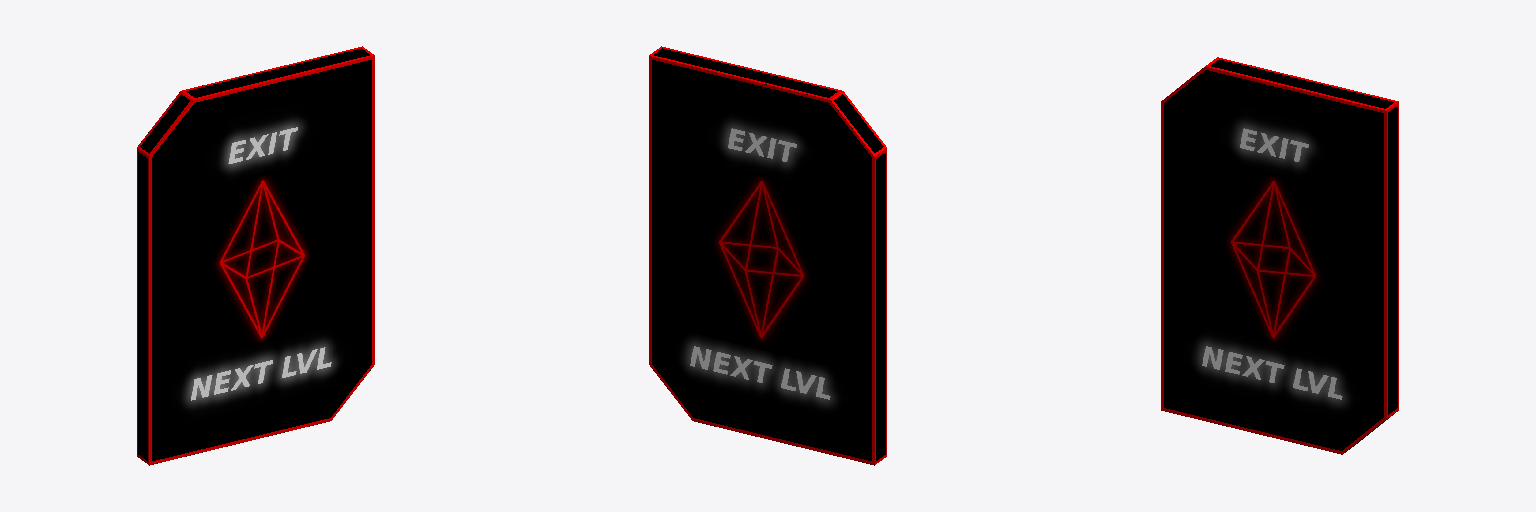
The picture shows the model from 3 angles: view 1: azimuth 30°, elevation 25°; view 2: azimuth 150°, elevation 25°; view 3: azimuth 330°, elevation 25°; orthographic projection.
Visible parts, largest first — view 1: Body.003; view 2: Body.003; view 3: Body.003.
Part boxes in pixels (x1,y1,x2,y2): Body.003: (137, 46, 374, 465); Body.003: (649, 46, 886, 465); Body.003: (1161, 57, 1398, 454).
Bounding box in the file's own units: 0.512 × 0.768 × 0.05.
Materials: 1 (1 with a texture image).